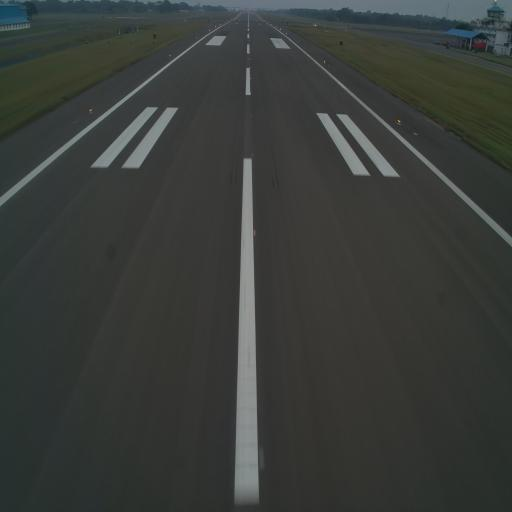off: (250, 150, 256, 162), (249, 112, 254, 120)
on: (87, 106, 94, 116), (396, 116, 402, 125), (252, 226, 256, 238), (168, 50, 172, 59), (323, 58, 328, 64), (249, 91, 252, 97), (249, 76, 251, 80), (249, 66, 251, 70)
